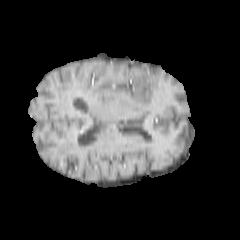glioma: (97, 71, 156, 111)
